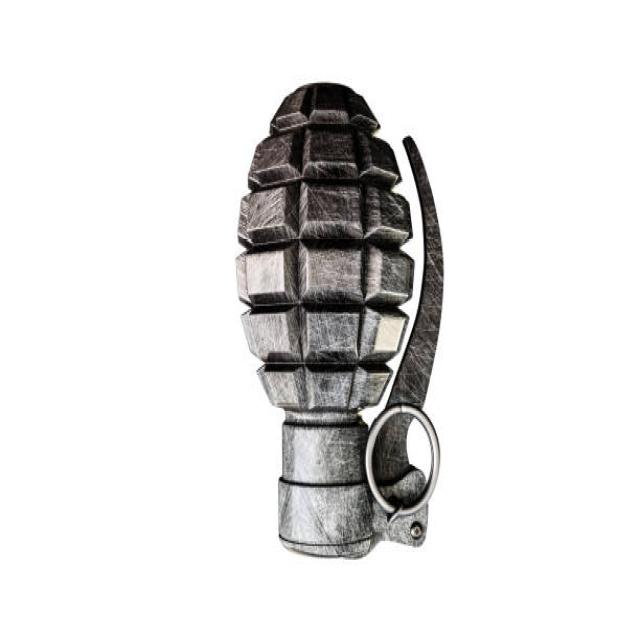grenade: (231, 75, 451, 568)
